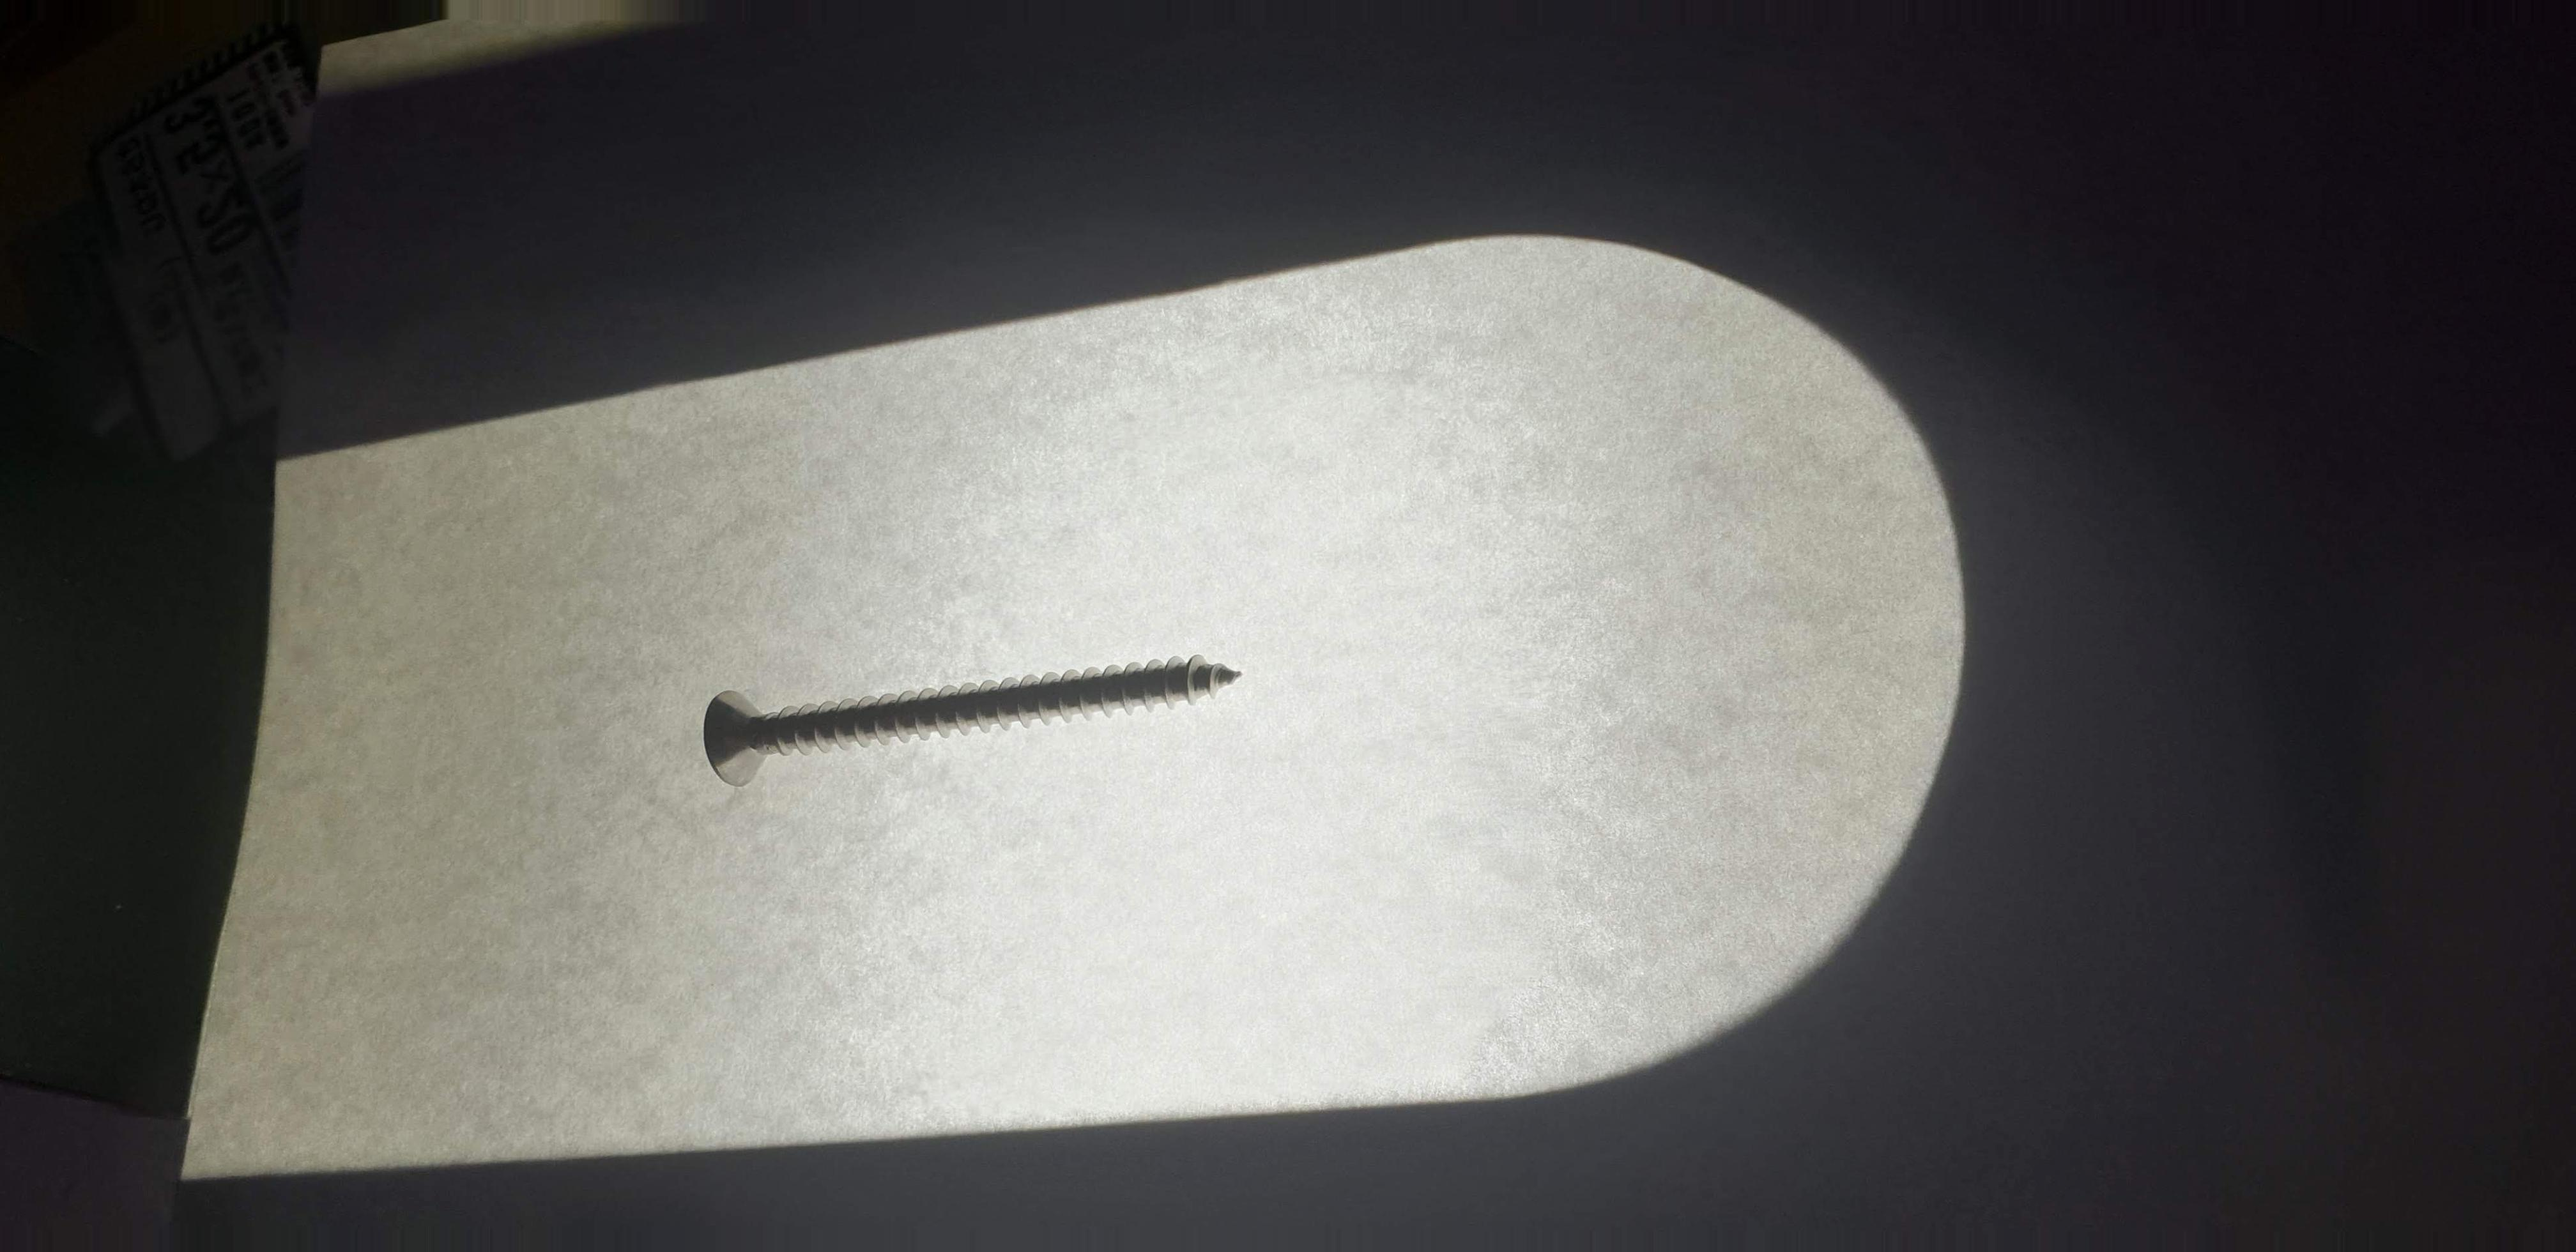S001: (680, 624, 1268, 805)
